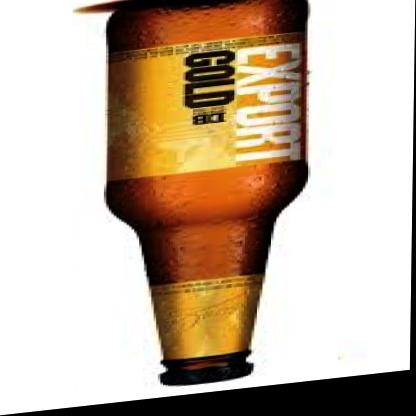trash: (77, 0, 306, 384)
